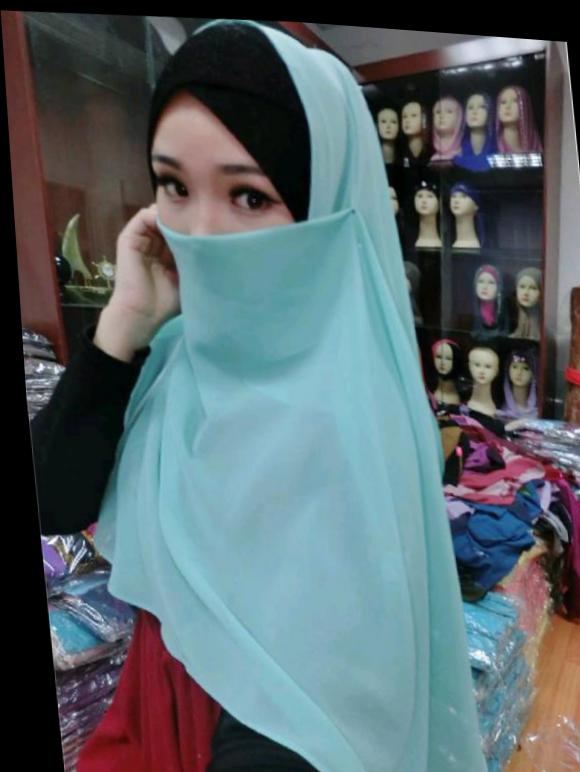WRONG: (132, 137, 326, 332)
